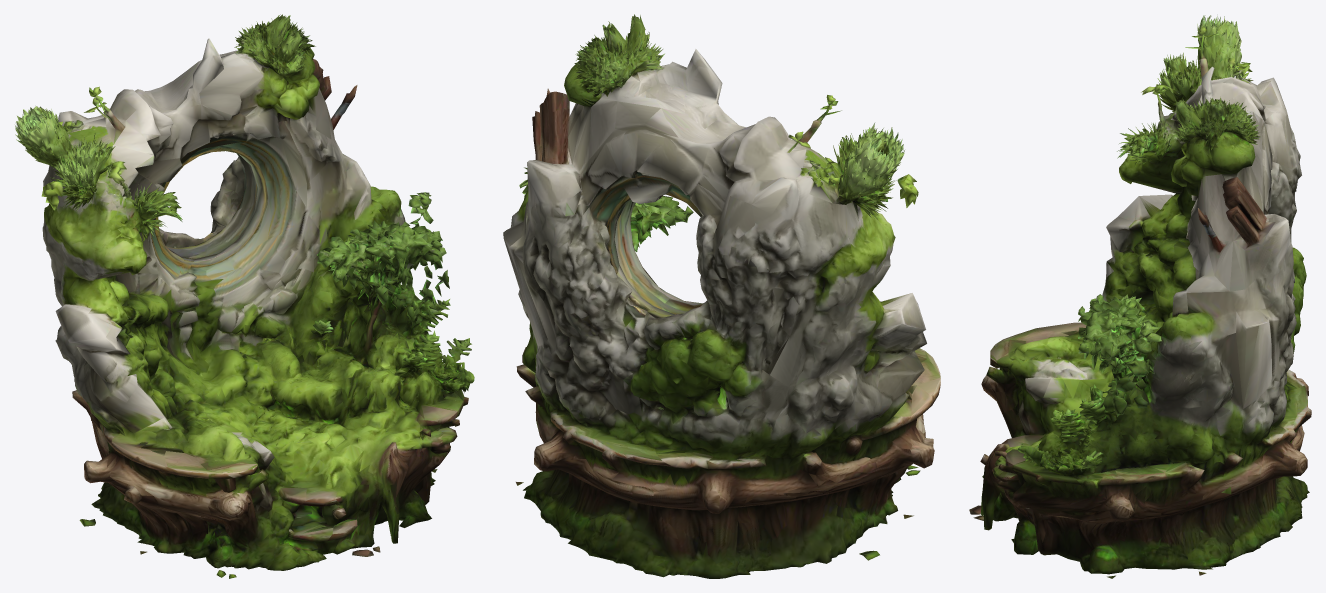
The model's file is Verdant_Ring_of_Stone.glb.
3 renders of one model, left to right at view 1: azimuth 30°, elevation 25°; view 2: azimuth 150°, elevation 25°; view 3: azimuth 270°, elevation 25°, orthographic. The views are drawn at different scales.
Visible parts, largest first — view 1: Verdant_Ring_of_Stone; view 2: Verdant_Ring_of_Stone; view 3: Verdant_Ring_of_Stone.
Boxes of the visible parts, x1,y1,x2,y2 form: Verdant_Ring_of_Stone: (15,14,474,578); Verdant_Ring_of_Stone: (503,14,940,578); Verdant_Ring_of_Stone: (969,15,1311,578).
Size of the model in its own units: 1.76 by 1.9 by 1.36.
1 material, 1 textured.
